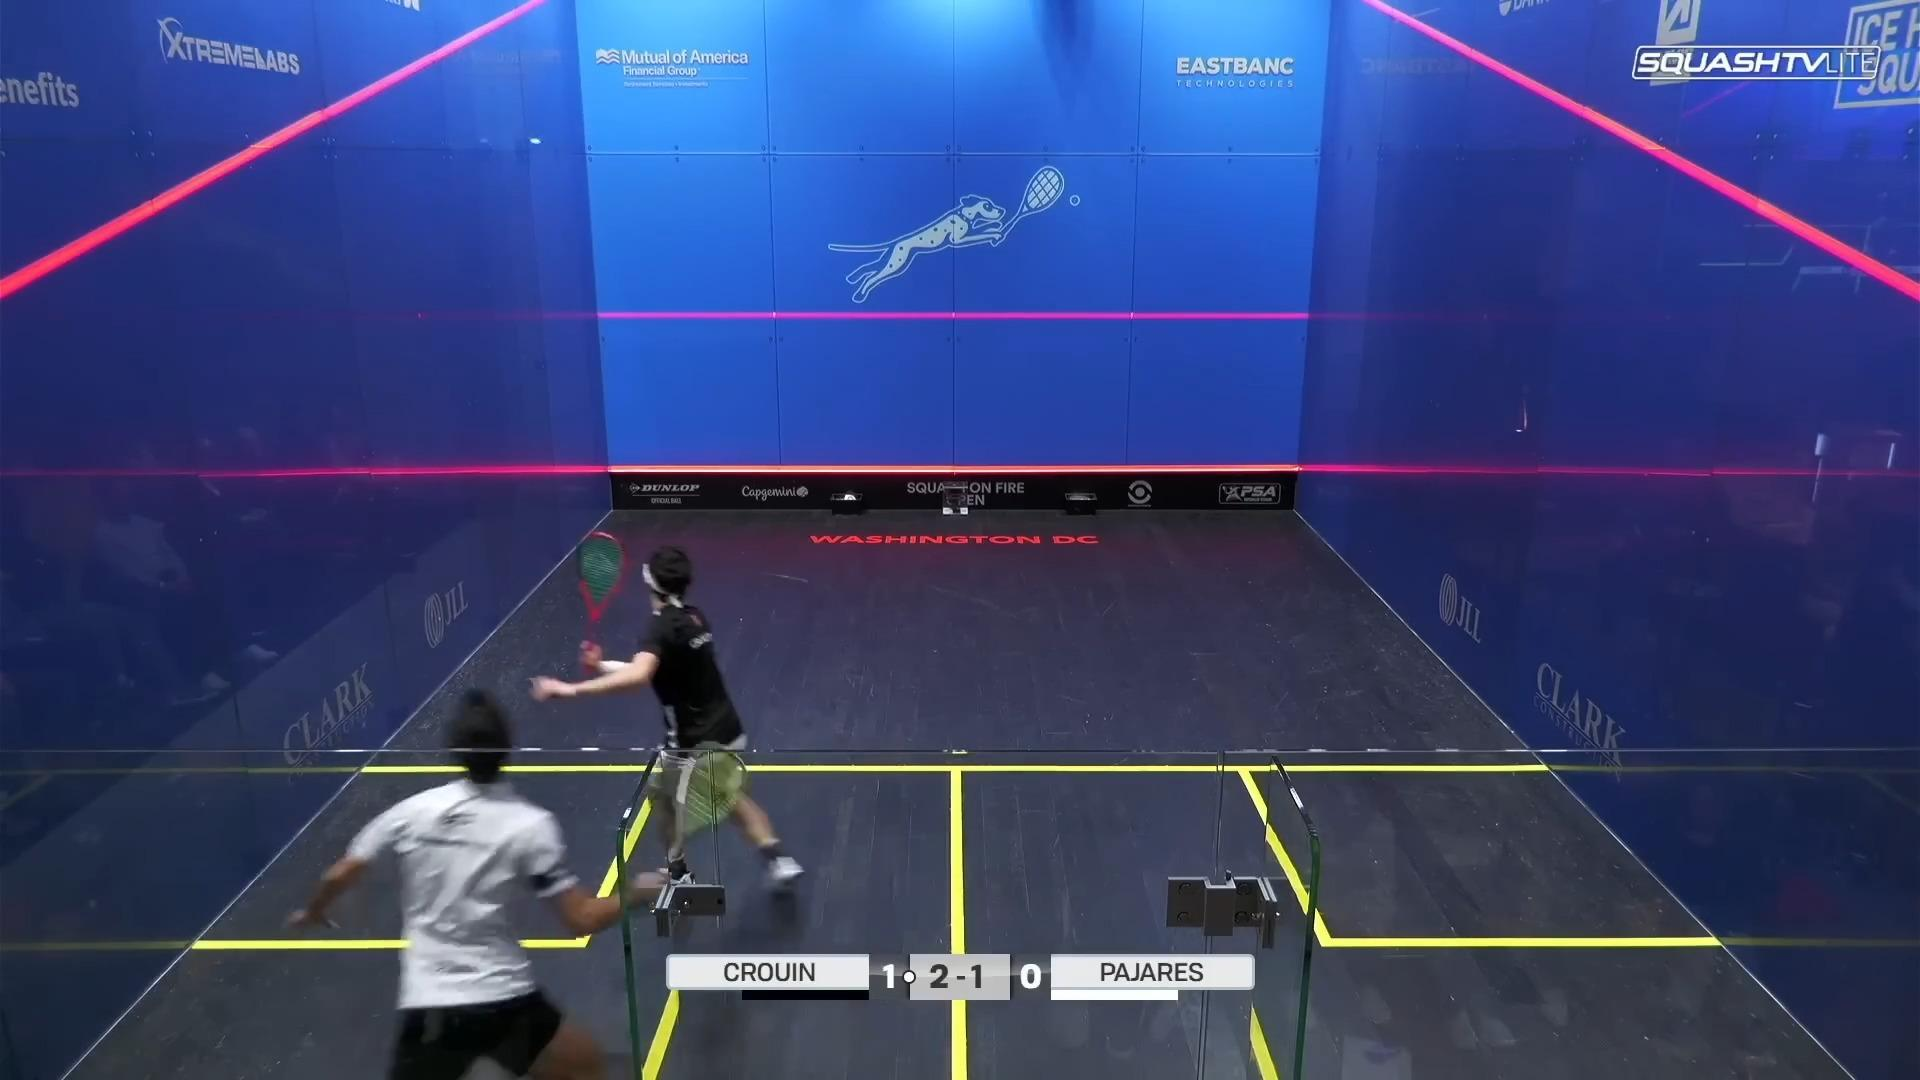Squash-Ball: (518, 124, 553, 160)
